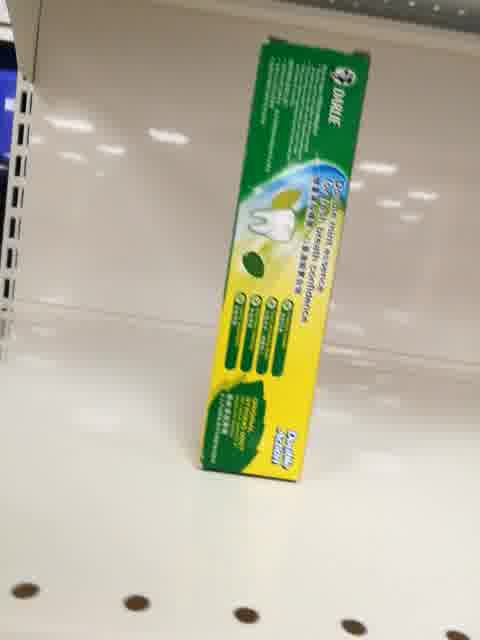toothpaste: (200, 36, 372, 483)
